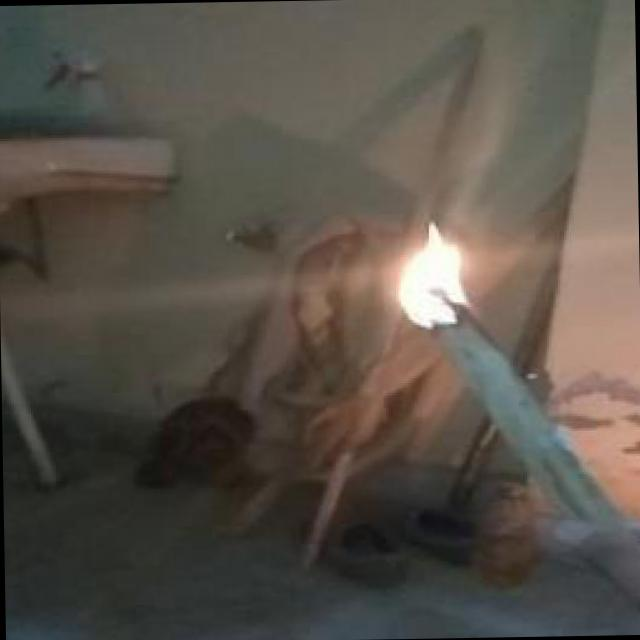fire: (353, 212, 528, 350)
